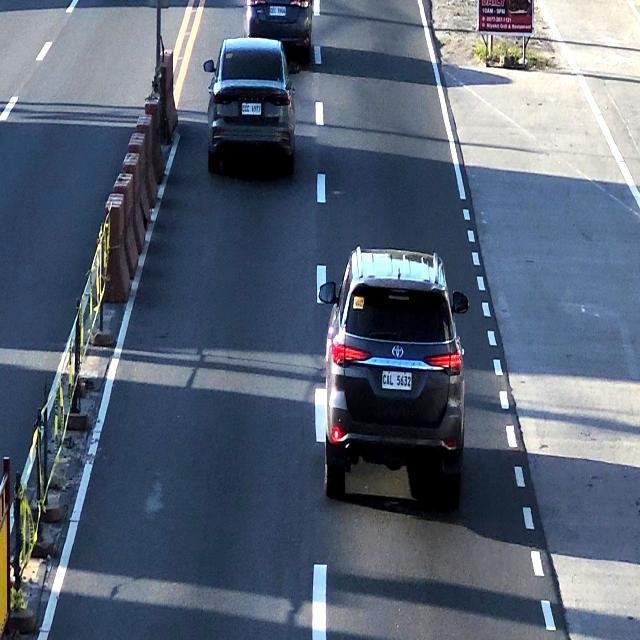Car: (324, 251, 464, 504), (202, 44, 287, 174), (242, 0, 312, 41)
License-Plate: (380, 372, 412, 397), (241, 102, 263, 118)
